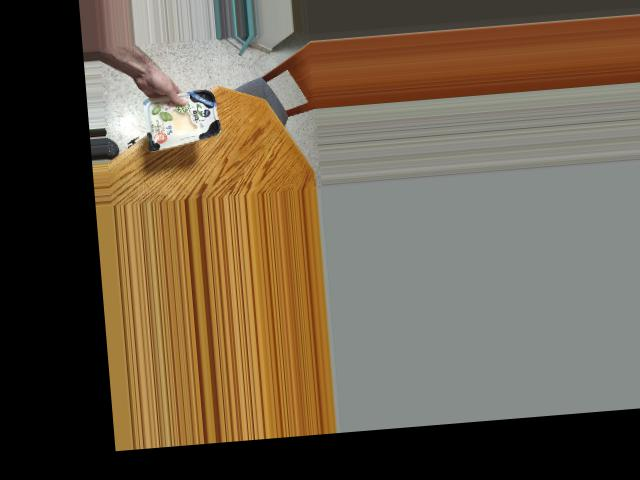cheese: (148, 89, 218, 146)
